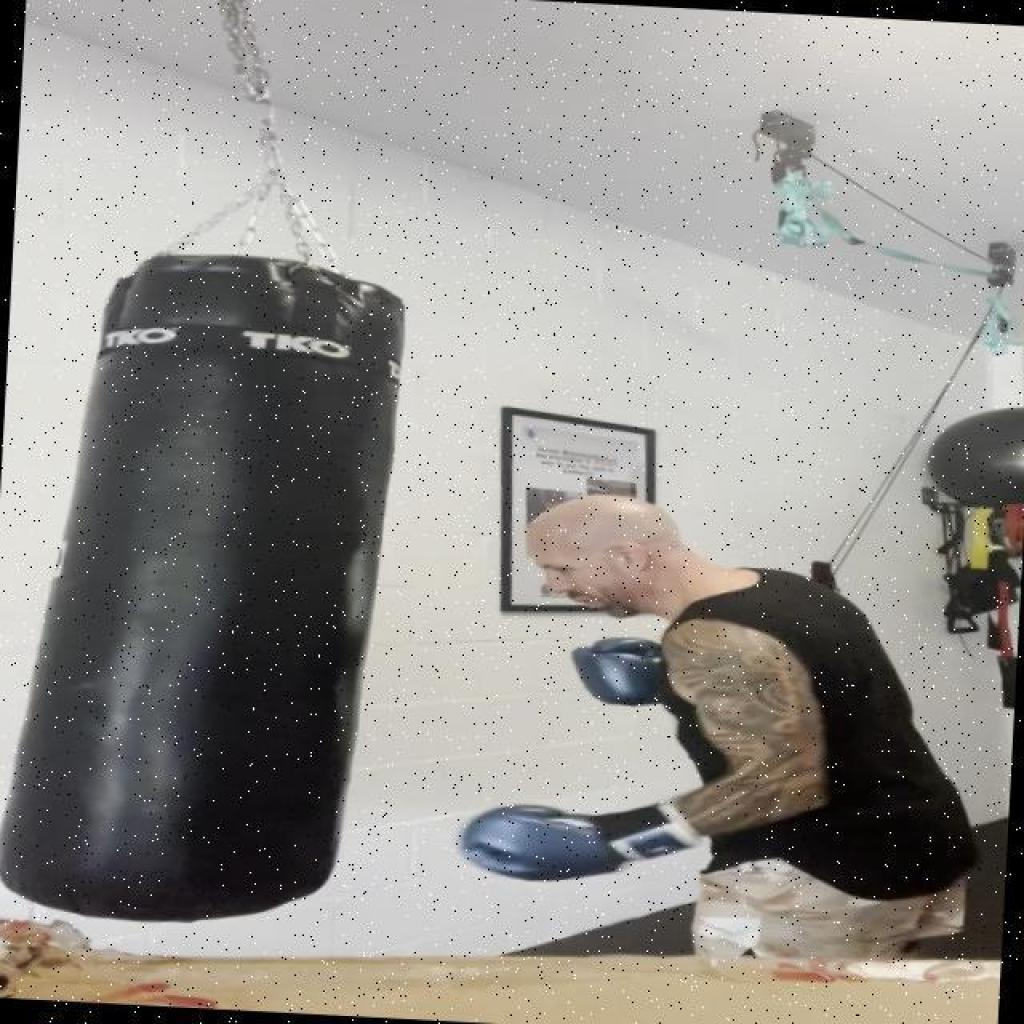bag: (8, 240, 402, 931)
uppercut: (450, 616, 851, 898)
